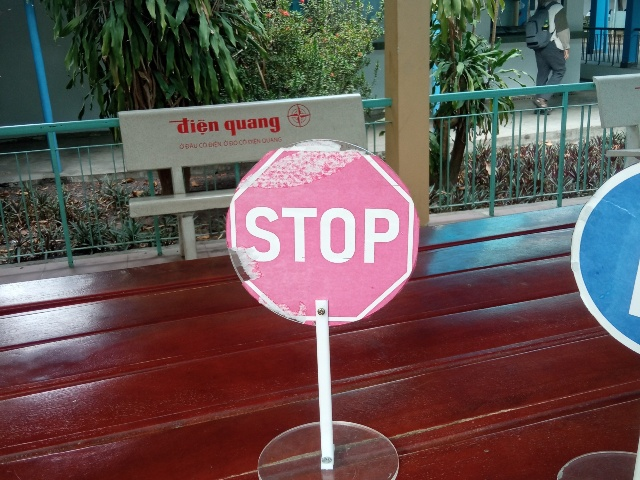Right_Sign: (570, 155, 640, 356)
Stop_Sign: (226, 139, 420, 328)
